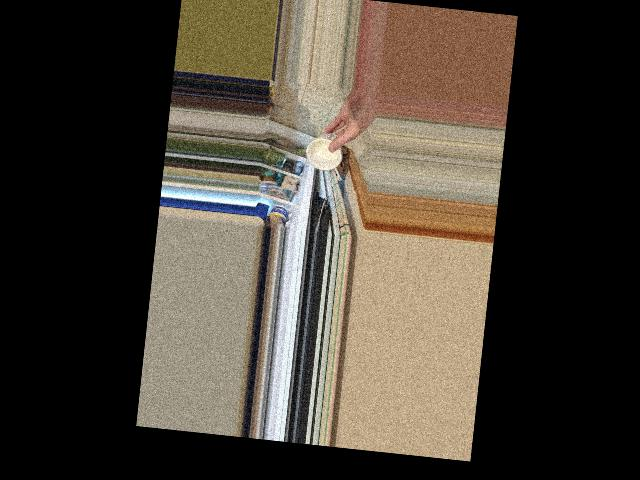cotage: (308, 127, 347, 174)
